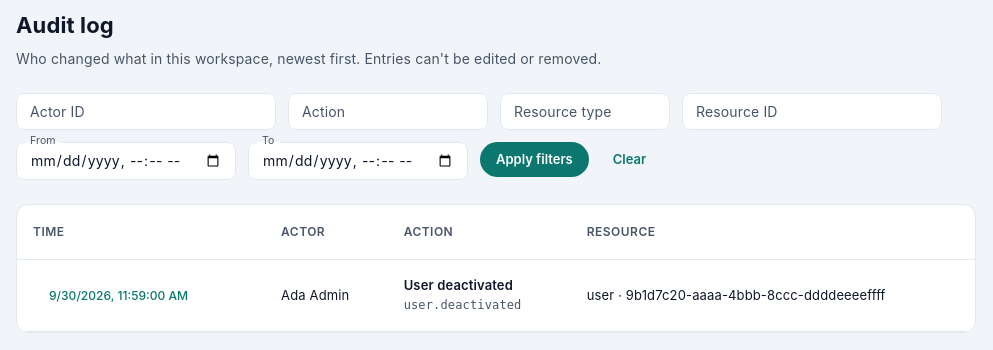
AuditLogPage › says so when a filter matches nothing
Expected: the table named "Audit log" is shown, x1=17 y1=204 x2=975 y2=332
In the field labelled "Action": (388, 112) x1=288 y1=93 x2=488 y2=130, type "nothing.here"
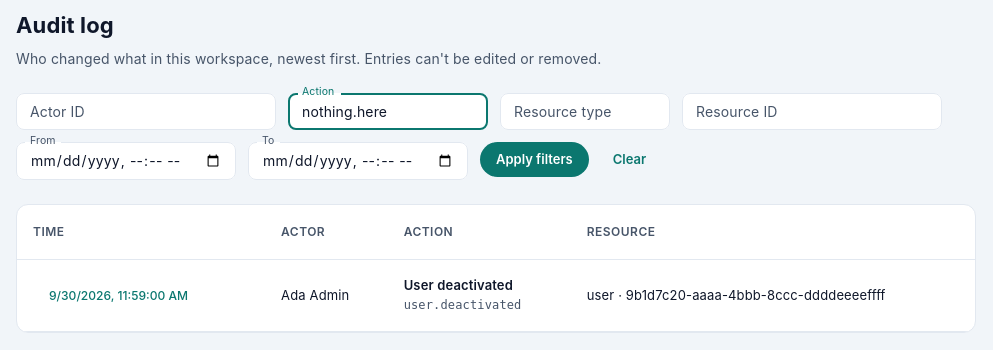
Click the button "Apply filters": click(534, 160) x1=480 y1=142 x2=589 y2=177
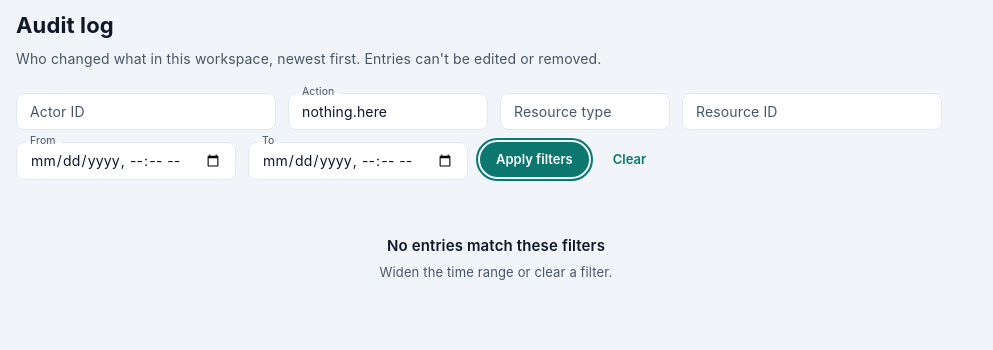
Expected: the heading "No entries match these filters" is shown, x1=387 y1=236 x2=605 y2=255
